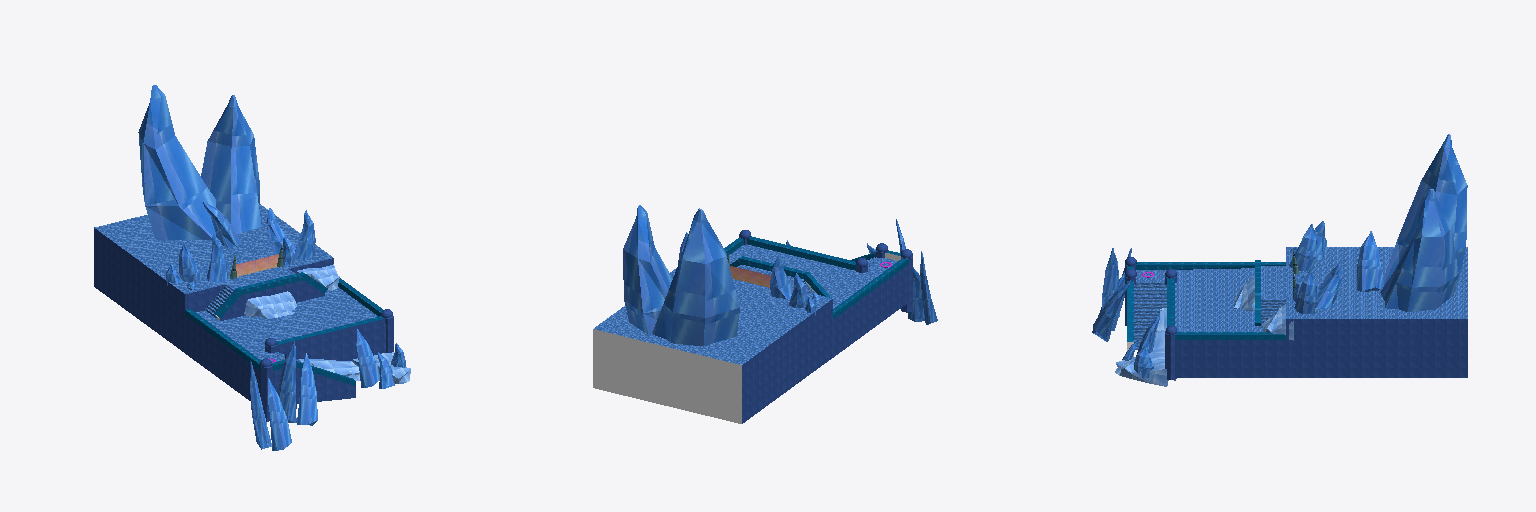
3 renders of one model, left to right at view 1: azimuth 30°, elevation 25°; view 2: azimuth 150°, elevation 25°; view 3: azimuth 270°, elevation 25°, orthographic.
Visible parts, largest first — view 1: PolyShape (20); view 2: PolyShape (20); view 3: PolyShape (20).
Boxes of the visible parts, <box> form: PolyShape (20): <box>94,85,410,450</box>; PolyShape (20): <box>593,205,937,423</box>; PolyShape (20): <box>1092,134,1467,386</box>.
Bounding box in the file's own units: 15.85 × 20.64 × 31.1.
10 materials, 7 textured.